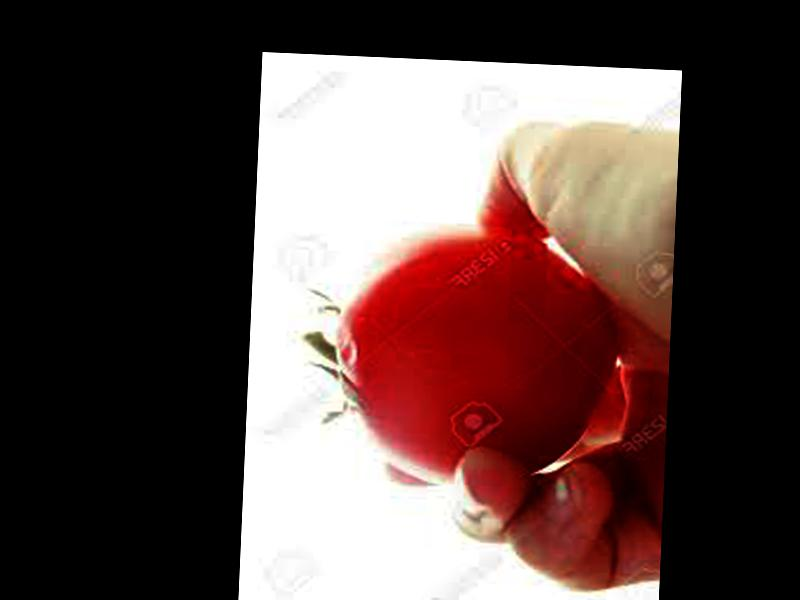Tomato: (326, 222, 617, 493)
